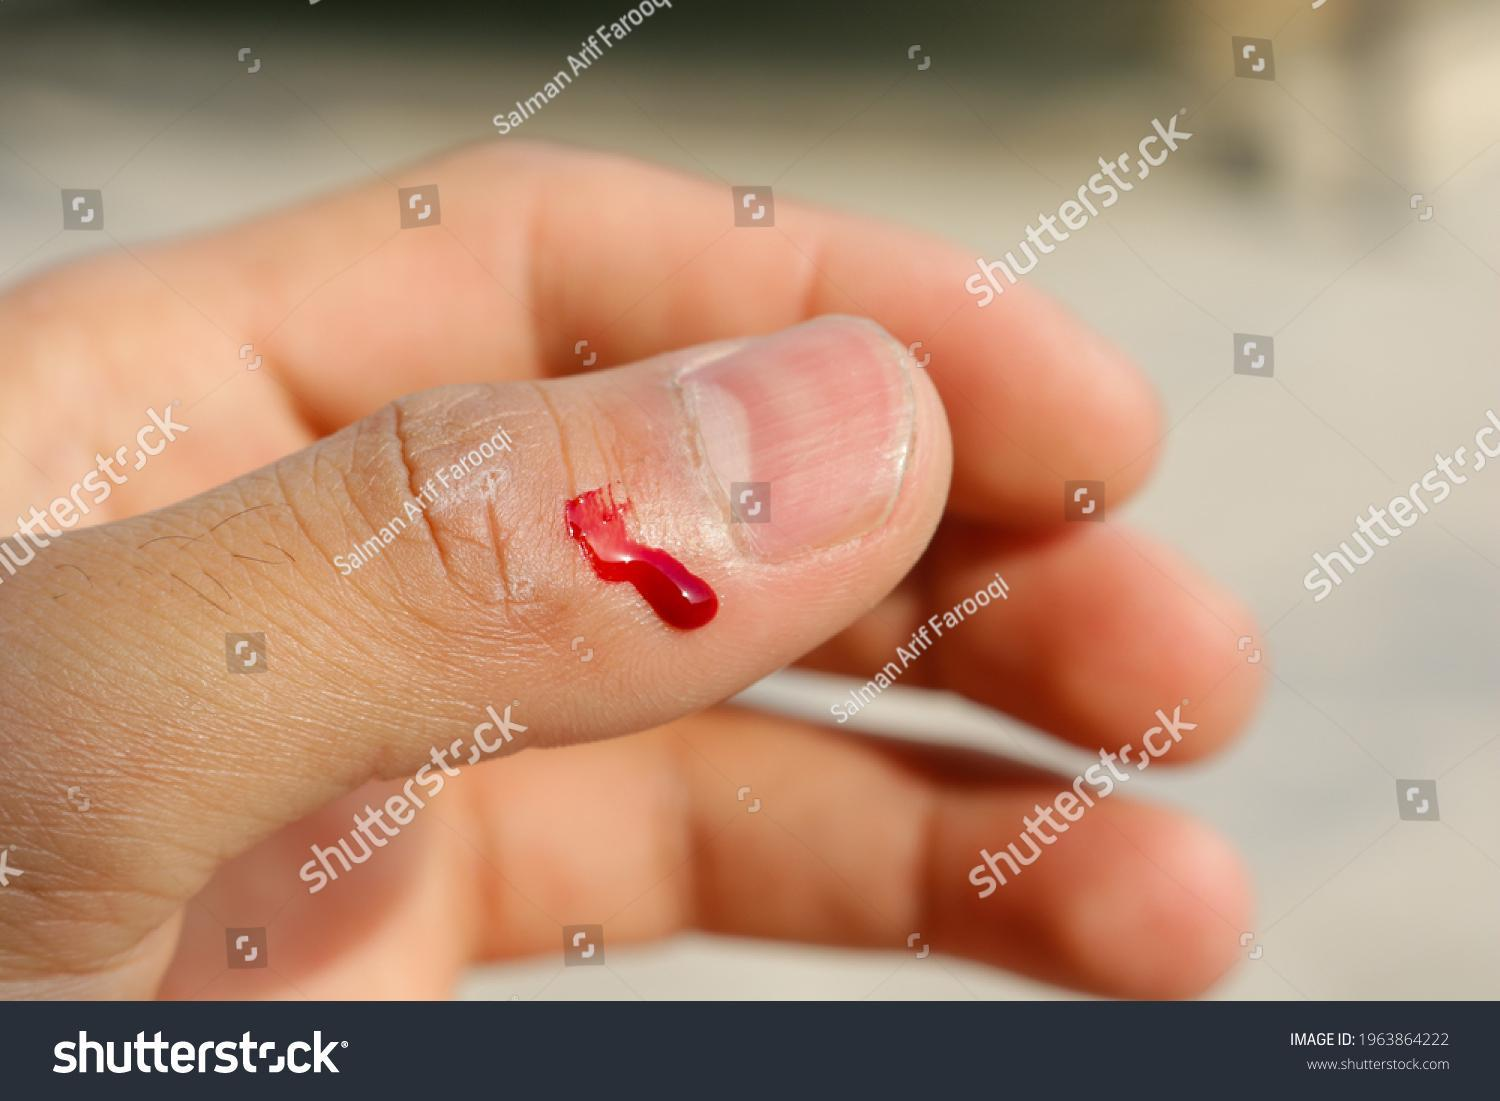Fire: (565, 487, 719, 629)
